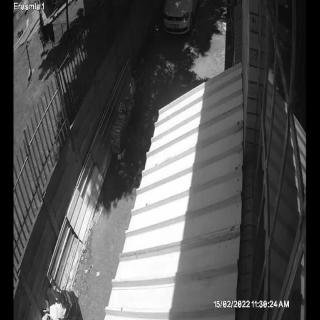car: (161, 0, 198, 34)
